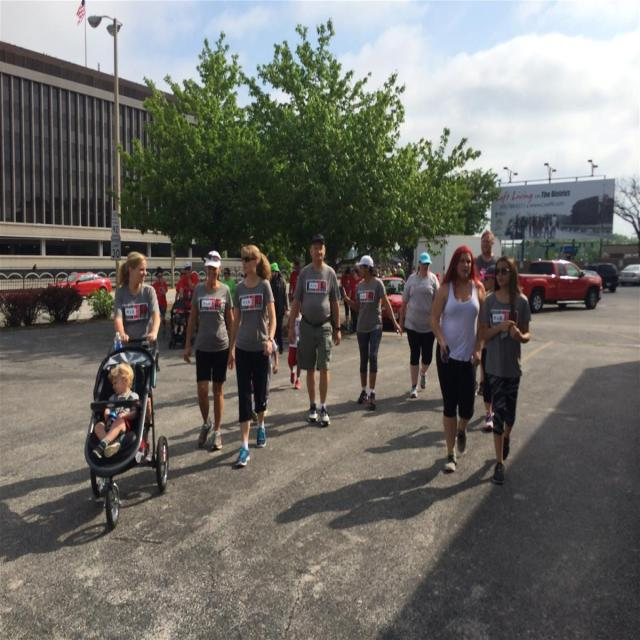body: (269, 456, 495, 531), (429, 244, 487, 473), (475, 253, 531, 485), (226, 242, 276, 468), (287, 230, 342, 428), (183, 248, 235, 452), (112, 250, 162, 458), (342, 255, 404, 410), (0, 464, 89, 560), (399, 250, 442, 399), (92, 362, 140, 459), (474, 263, 497, 432), (364, 422, 448, 453), (378, 388, 442, 418), (269, 261, 288, 356), (506, 208, 561, 240), (474, 229, 501, 292), (286, 299, 303, 389), (168, 422, 202, 463), (180, 262, 199, 335), (266, 408, 309, 440), (152, 265, 168, 339), (347, 267, 363, 335), (340, 265, 355, 332), (220, 266, 237, 316), (152, 392, 198, 409), (326, 397, 363, 417), (467, 411, 486, 441), (373, 262, 406, 279), (174, 270, 191, 302), (288, 260, 301, 300), (171, 302, 186, 335), (266, 380, 292, 394), (271, 336, 280, 374), (222, 391, 238, 404), (434, 270, 443, 288)
